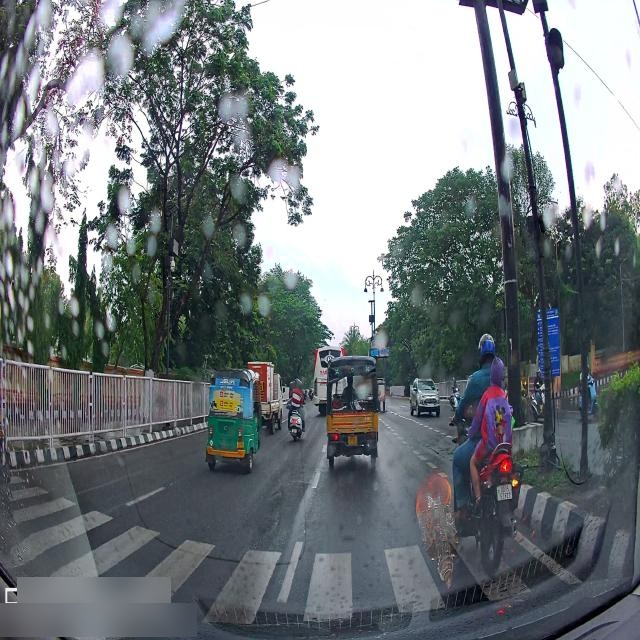pothole: (255, 482, 290, 552)
